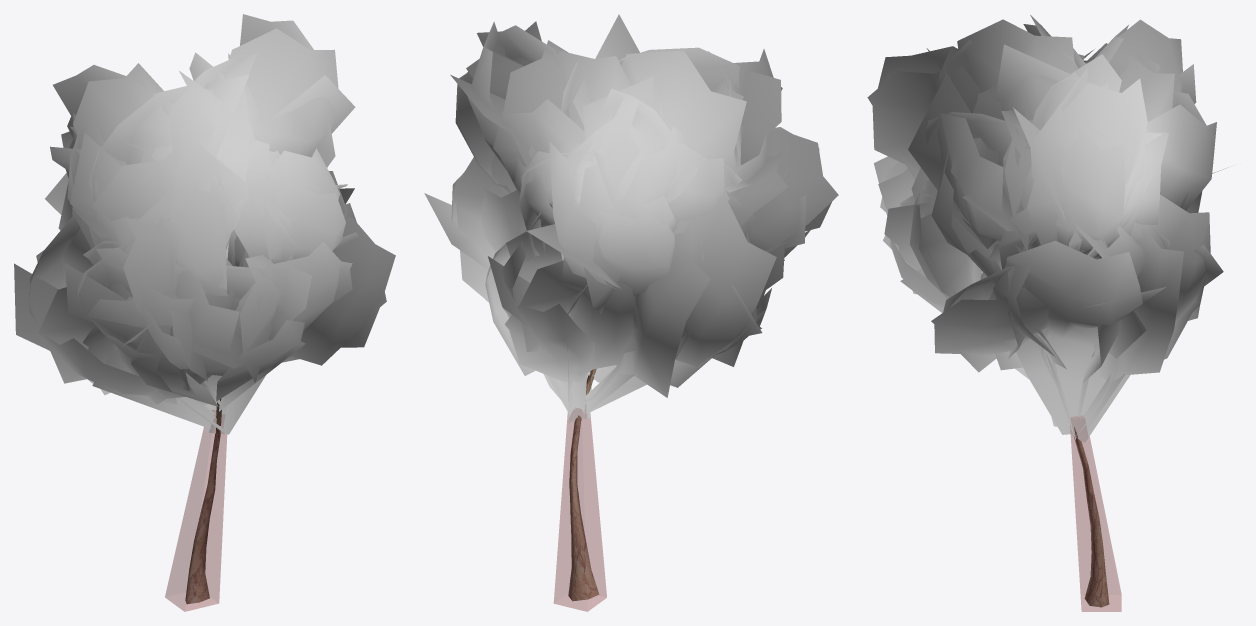
Rendered from Bushes3.fbx.
3 views of the same model, side by side, from view 1: azimuth 30°, elevation 25°; view 2: azimuth 150°, elevation 25°; view 3: azimuth 270°, elevation 25° (orthographic). The views are drawn at different scales.
Visible parts, largest first — view 1: rosebayRhododendron_01_bigBushB:twig090, pCube1, rosebayRhododendron_01_bigBushB:smallTwig008; view 2: rosebayRhododendron_01_bigBushB:twig090, pCube1, rosebayRhododendron_01_bigBushB:smallTwig008; view 3: rosebayRhododendron_01_bigBushB:twig090, pCube1, rosebayRhododendron_01_bigBushB:smallTwig008.
Boxes of the visible parts, x1,y1,x2,y2 form: rosebayRhododendron_01_bigBushB:twig090: (14, 14, 395, 434); pCube1: (165, 410, 226, 611); rosebayRhododendron_01_bigBushB:smallTwig008: (185, 399, 221, 604); rosebayRhododendron_01_bigBushB:twig090: (424, 14, 838, 423); pCube1: (554, 405, 606, 611); rosebayRhododendron_01_bigBushB:smallTwig008: (568, 368, 599, 601); rosebayRhododendron_01_bigBushB:twig090: (867, 15, 1227, 442); pCube1: (1070, 416, 1121, 611); rosebayRhododendron_01_bigBushB:smallTwig008: (1073, 427, 1109, 607).
Bounding box in the file's own units: 2.14 × 3.28 × 1.96.
